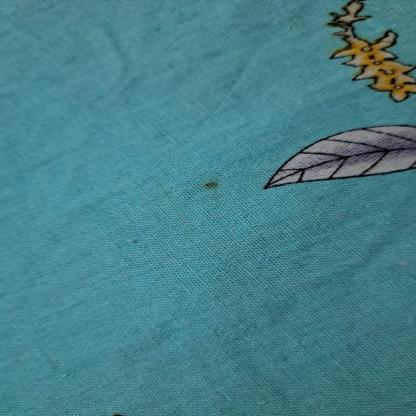spot: (196, 170, 224, 192)
